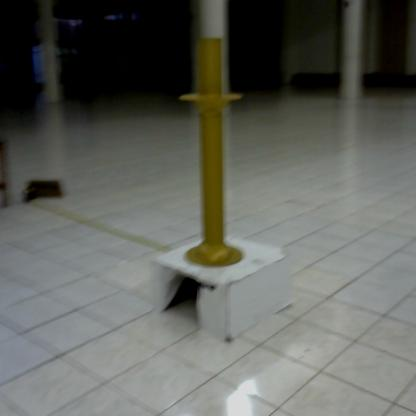pole: (176, 32, 255, 281)
